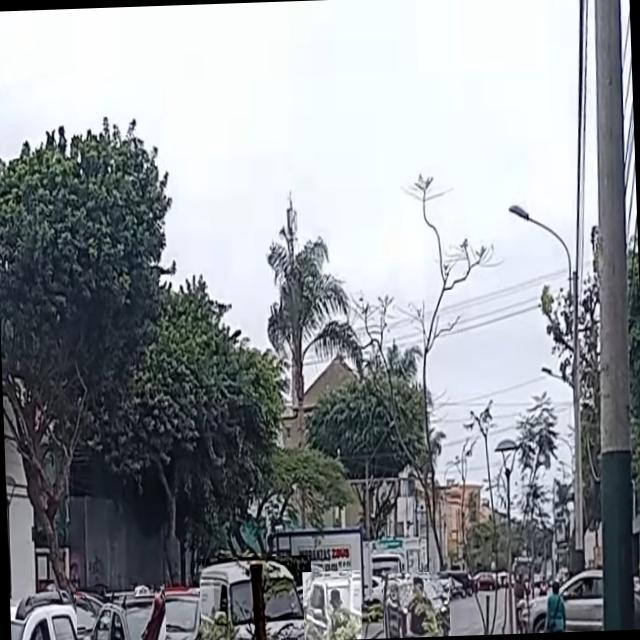bicycle: (389, 618, 434, 638)
car: (198, 554, 313, 640), (9, 585, 132, 640), (75, 583, 166, 640), (382, 571, 450, 638), (143, 579, 215, 640), (302, 570, 362, 640)
